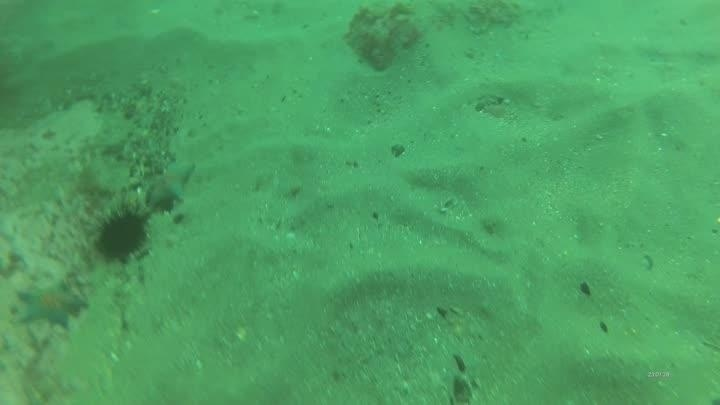echinus: (91, 203, 154, 266)
starfish: (13, 278, 90, 333), (138, 157, 199, 213)
